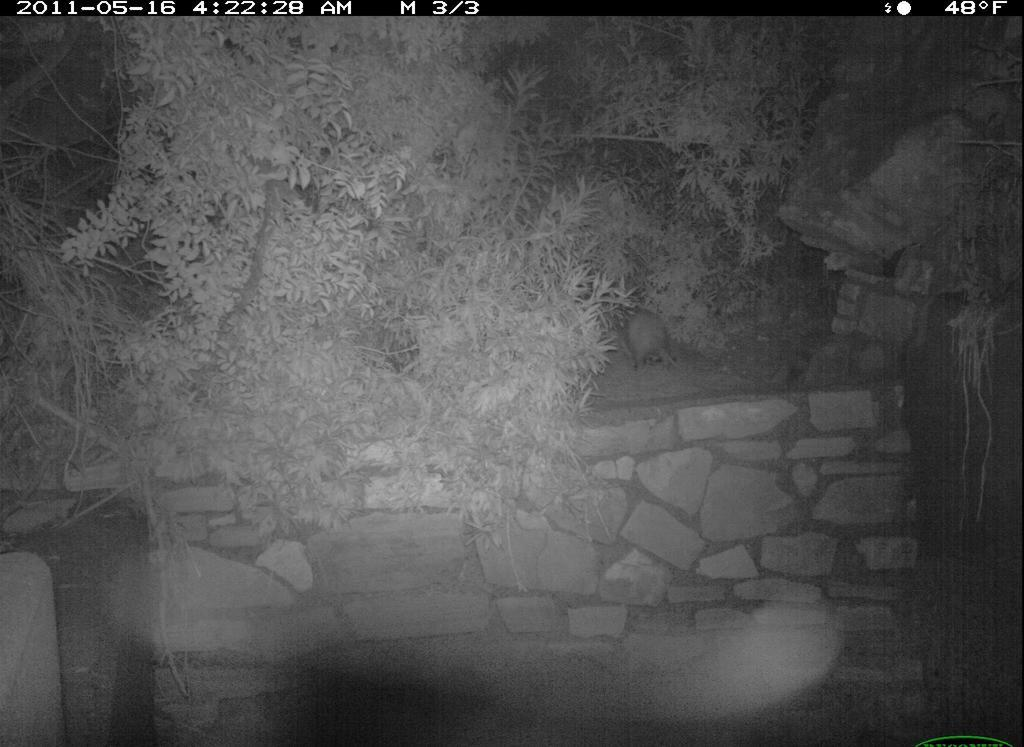opossum: (616, 306, 687, 377)
